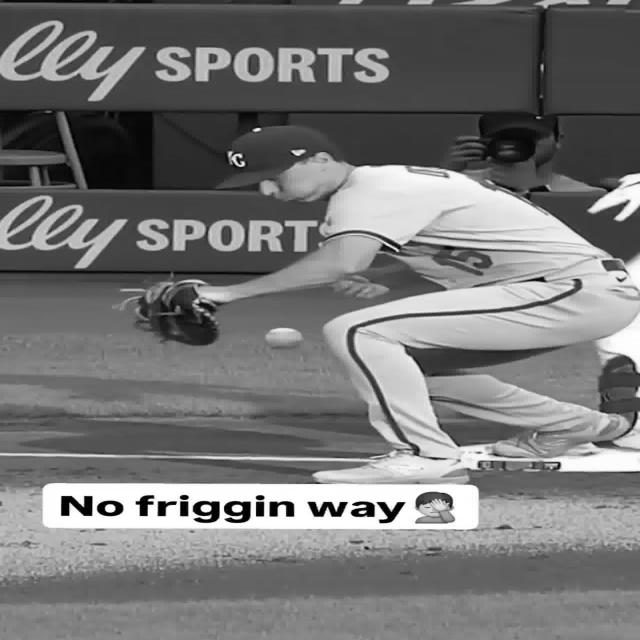base: (460, 444, 640, 472)
baseball: (264, 328, 305, 349)
baseball_glove: (118, 279, 218, 345)
shoe: (493, 414, 631, 458), (313, 450, 469, 484)
